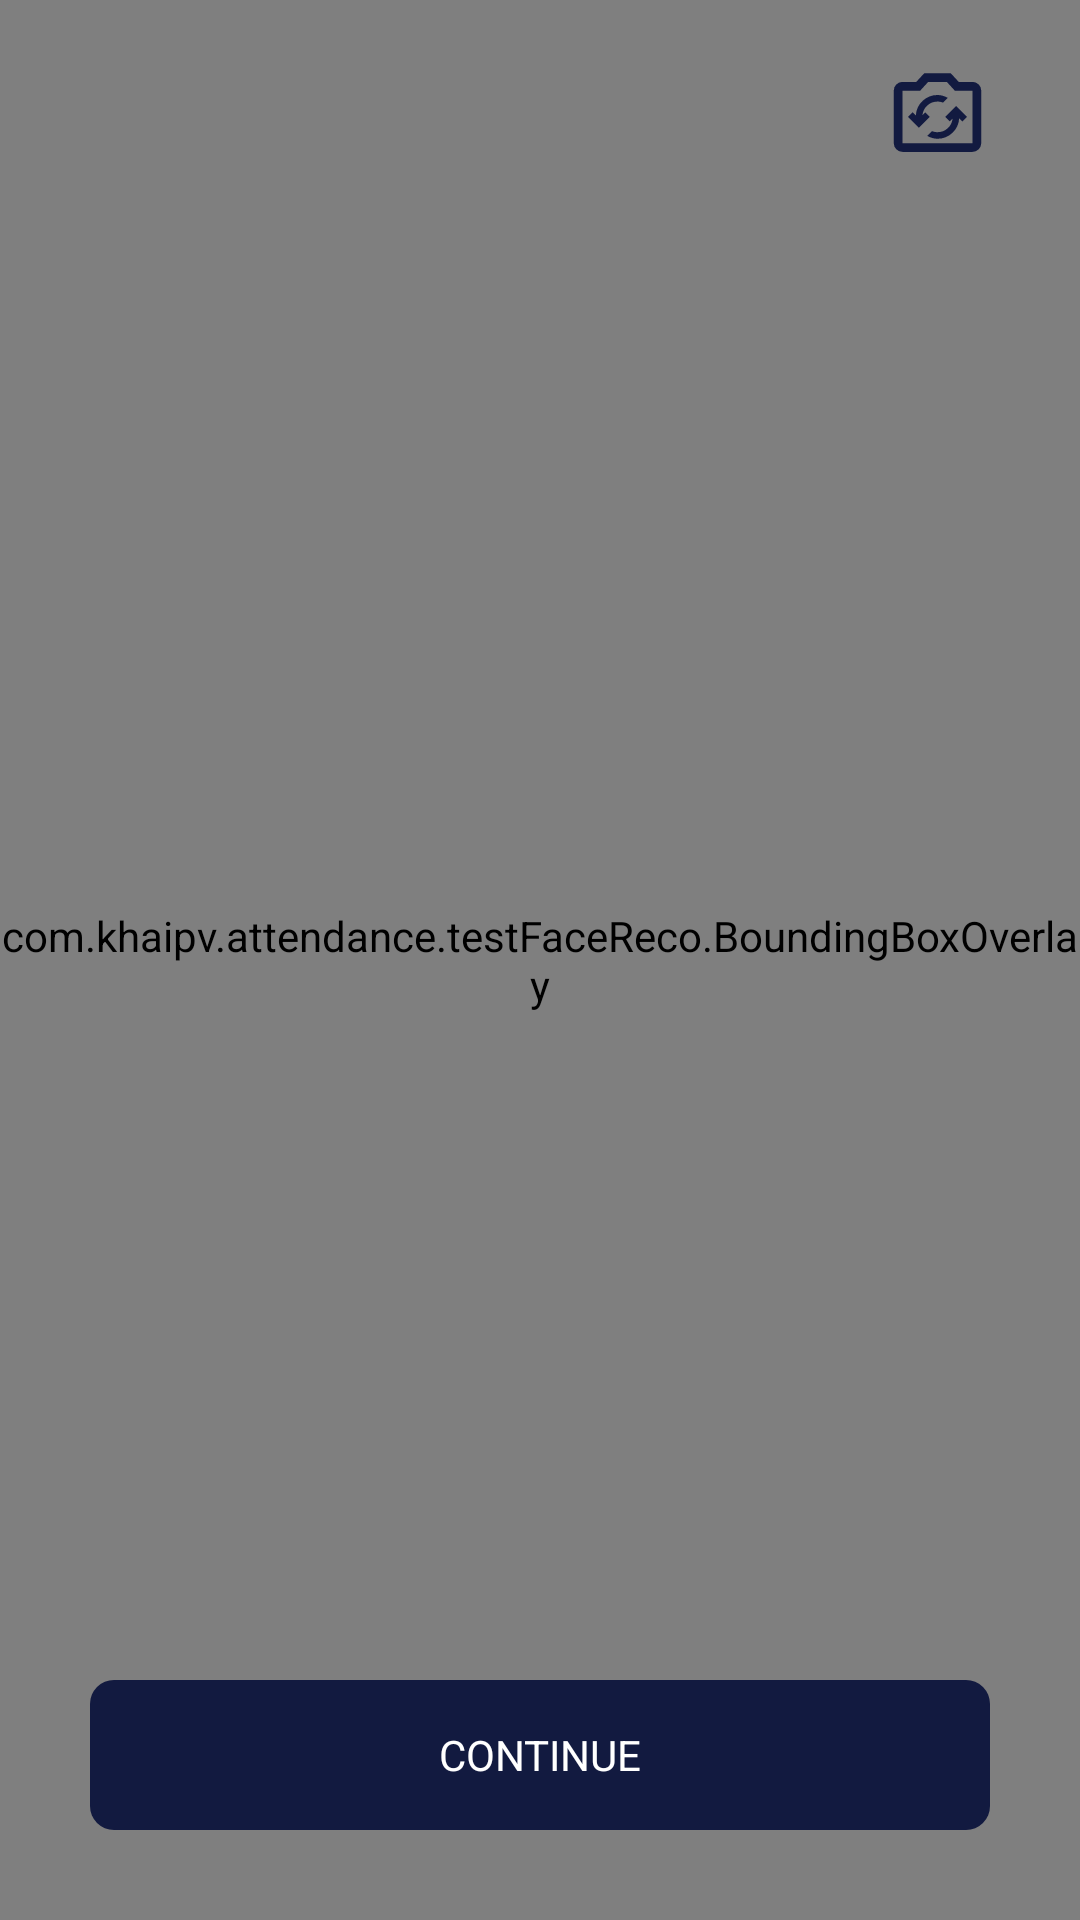

Named icons in this screenshot (1080*1920) and their centers, point (x, y):
flip: point (937, 112)
